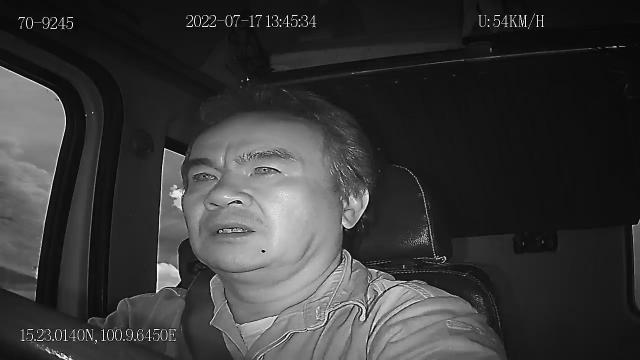SafeDriving: (243, 154, 290, 184), (185, 161, 223, 190)
Seatbelt: (182, 268, 236, 360)
